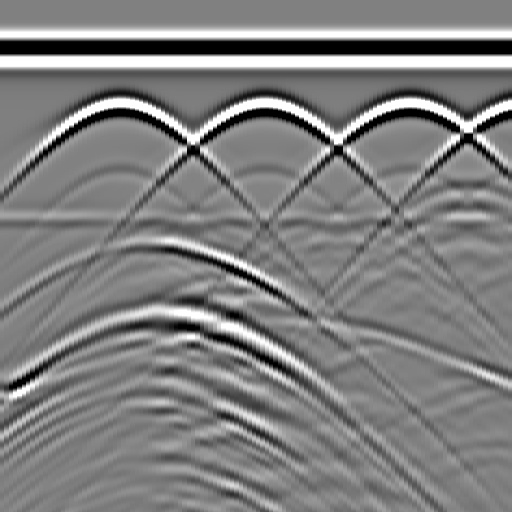grout_surface: (1, 206, 512, 236)
rebar: (98, 87, 138, 127), (243, 87, 283, 127), (387, 87, 427, 127), (502, 87, 512, 127)
rock_surface: (1, 319, 511, 394)
water_void: (127, 219, 187, 259)
